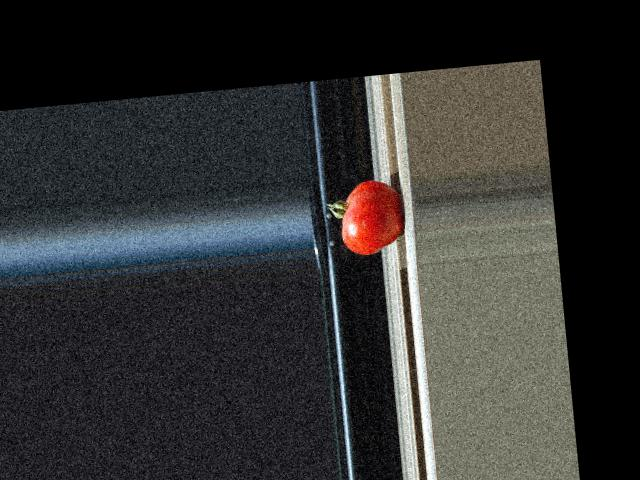tomato: (324, 177, 405, 257)
